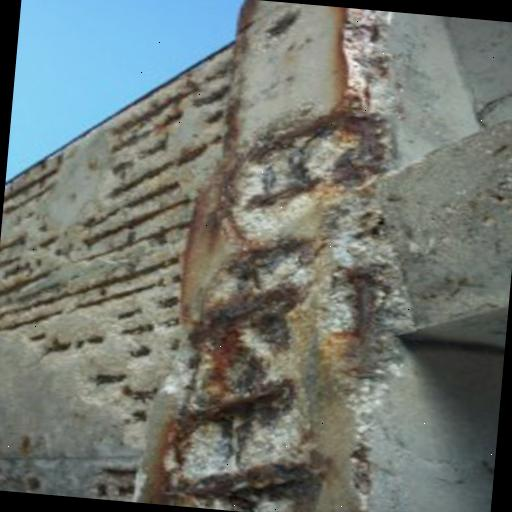spalling: (0, 0, 379, 512)
